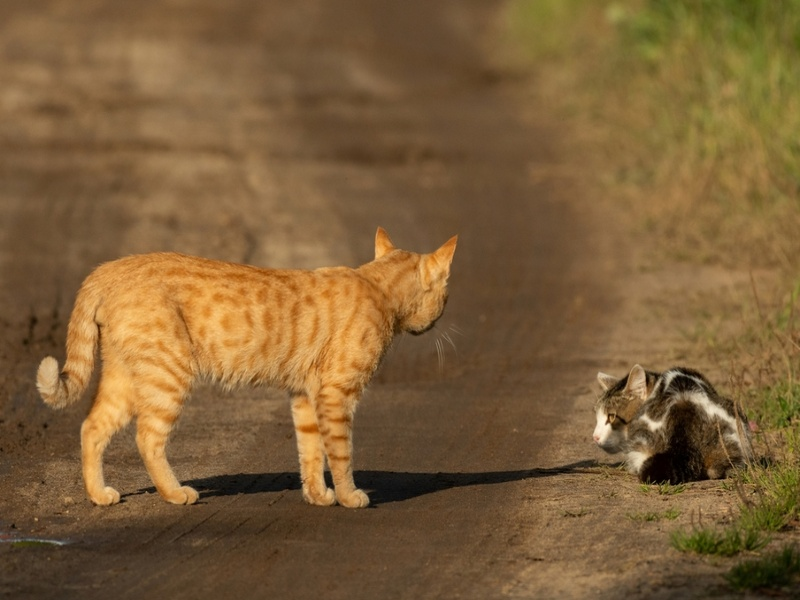cat: (35, 226, 463, 521), (591, 362, 775, 483)
